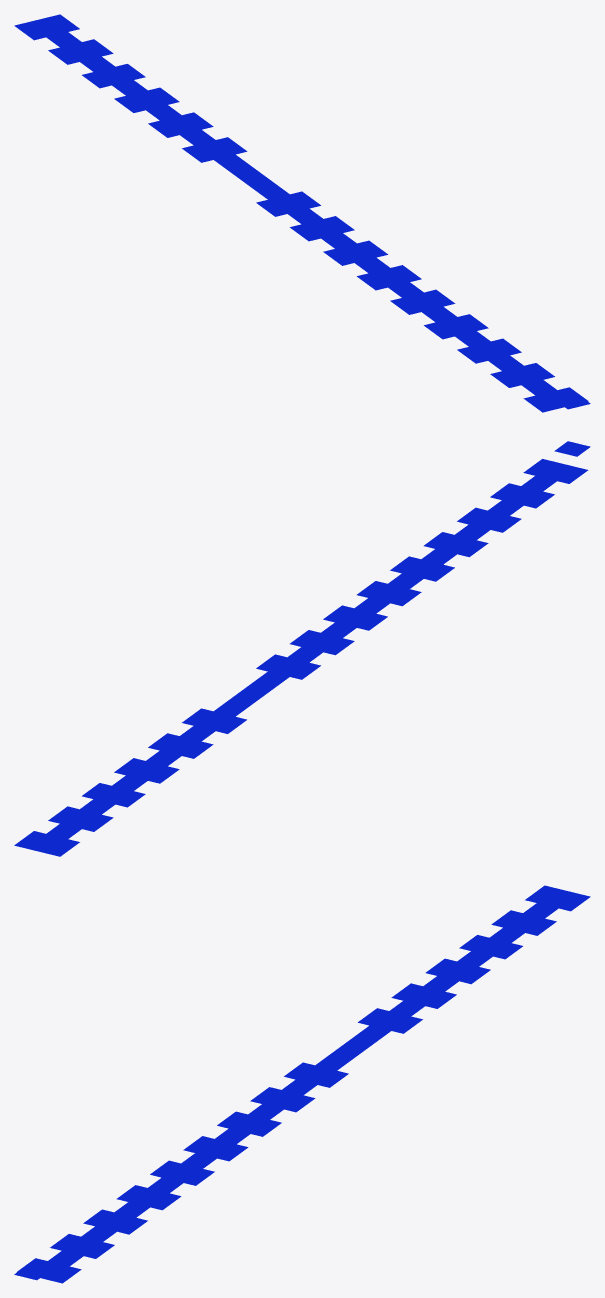
The model's file is tutorial_navmesh.fbx.
3 views of the same model, one above another, from view 1: azimuth 30°, elevation 25°; view 2: azimuth 150°, elevation 25°; view 3: azimuth 330°, elevation 25° (orthographic).
Parts seen in each view (by area): view 1: Plane; view 2: Plane; view 3: Plane.
Part boxes in pixels (bbox=[...]): Plane: bbox=[14, 14, 590, 412]; Plane: bbox=[14, 441, 590, 856]; Plane: bbox=[14, 885, 590, 1283].
Size of the model in its own units: 1191 by 256 by 24198.
